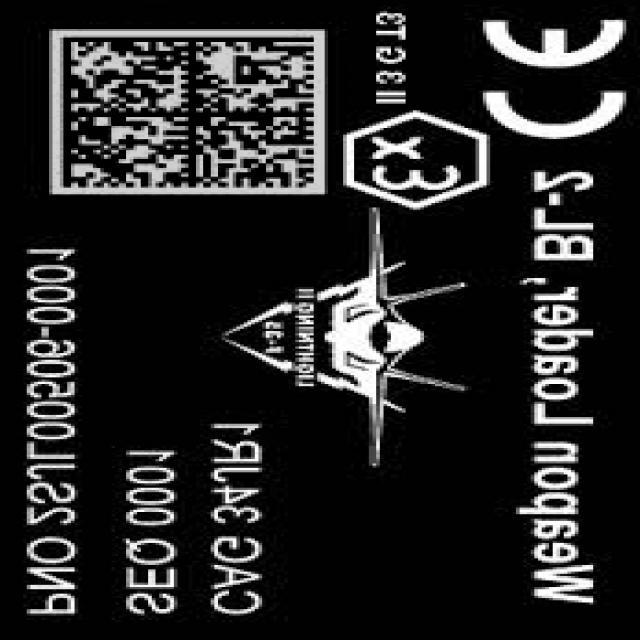Data-Matrix: (40, 24, 331, 199)
